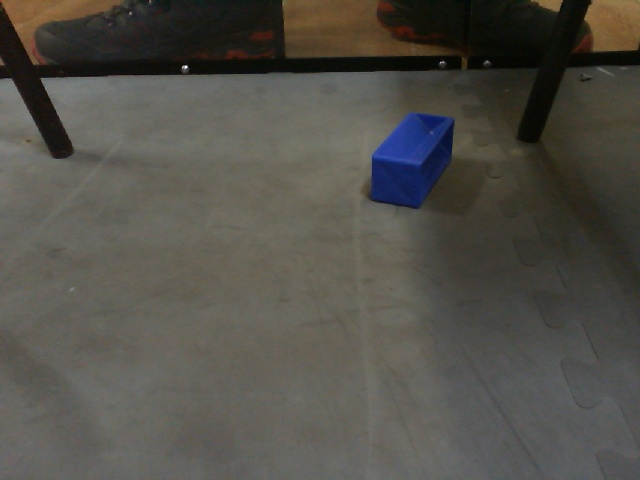BlueSample: (366, 106, 459, 212)
